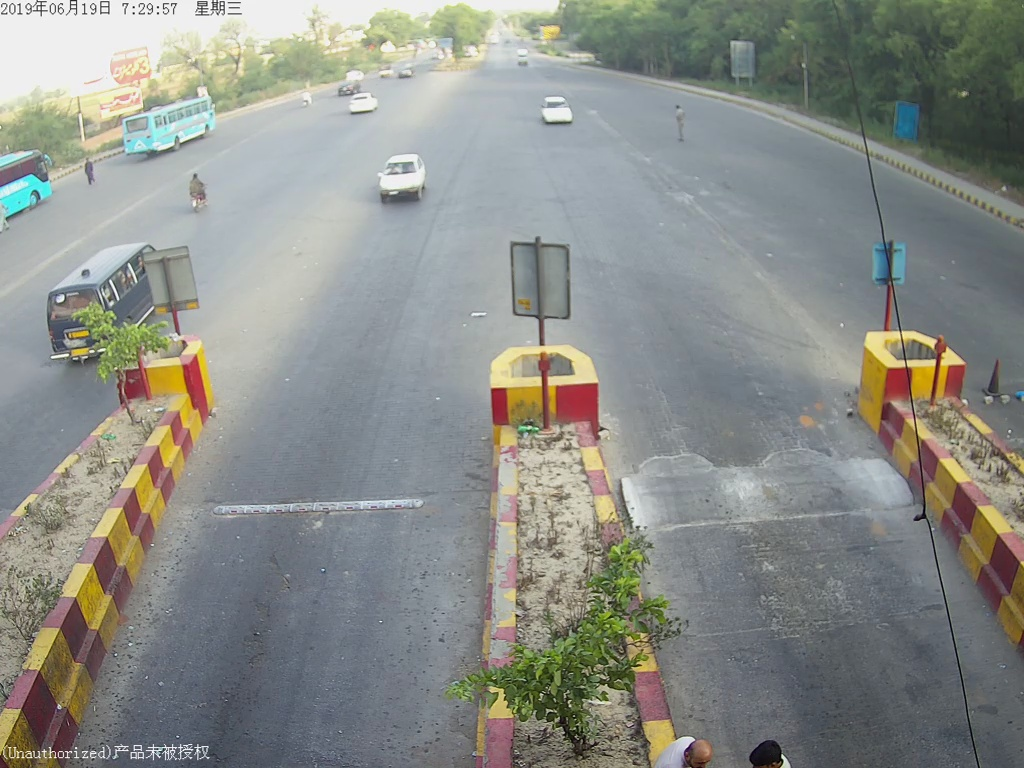Cat-1: (369, 150, 433, 205)
